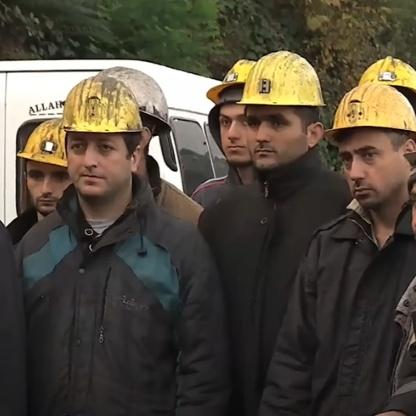helmet: (61, 68, 148, 217), (330, 80, 415, 214), (250, 49, 322, 172), (207, 52, 274, 165), (22, 114, 83, 212)
